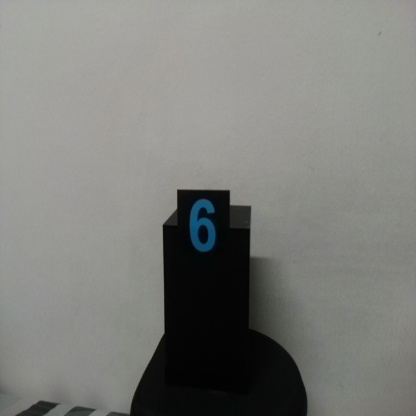id_6: (177, 189, 230, 273)
